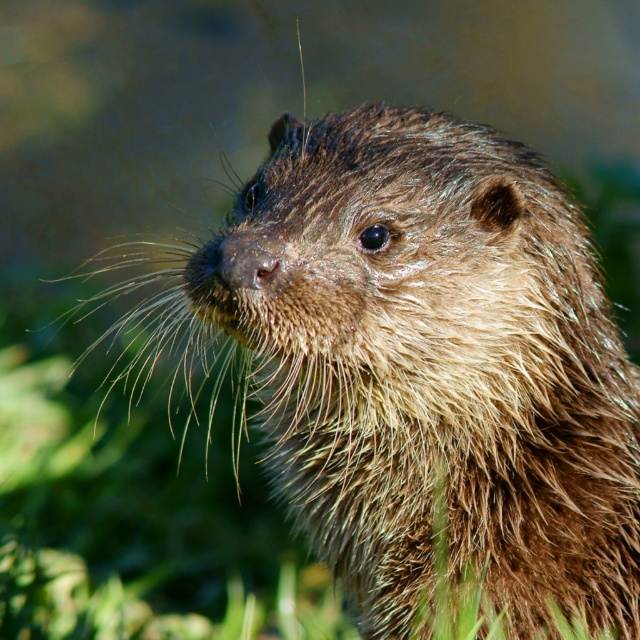Otter: (24, 18, 639, 639)
